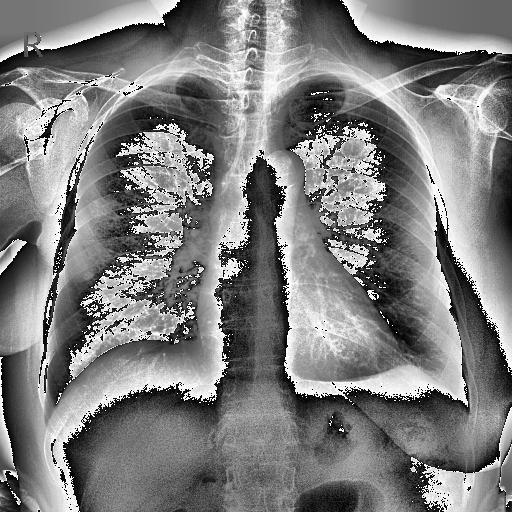0- Aortic enlargement: (260, 149, 306, 207), (258, 150, 306, 193)
2- Calcification: (82, 270, 94, 281)
8- Nodule-Mass: (82, 271, 94, 281), (83, 270, 93, 281)
9- Other lesion: (83, 270, 93, 281)
